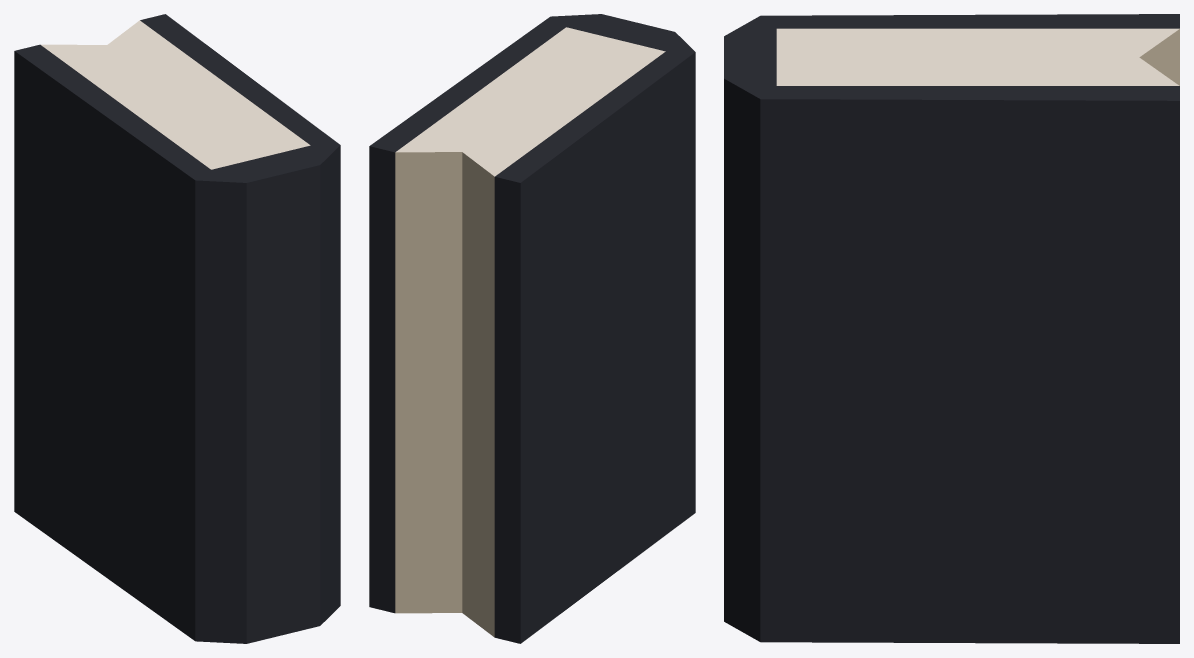
Rendered from TB_D_Prop_Book_A.FBX.
The picture shows the model from 3 angles, left to right: view 1: azimuth 30°, elevation 25°; view 2: azimuth 150°, elevation 25°; view 3: azimuth 270°, elevation 25°; orthographic projection. The views are drawn at different scales.
Parts seen in each view (by area): view 1: TB_D_Prop_Book_A; view 2: TB_D_Prop_Book_A; view 3: TB_D_Prop_Book_A.
Boxes of the visible parts, x1=… form: TB_D_Prop_Book_A: x1=14, y1=14, x2=340, y2=643; TB_D_Prop_Book_A: x1=369, y1=14, x2=695, y2=643; TB_D_Prop_Book_A: x1=724, y1=14, x2=1179, y2=643.
Bounding box in the file's own units: 0.2401 × 0.6998 × 0.5323.
